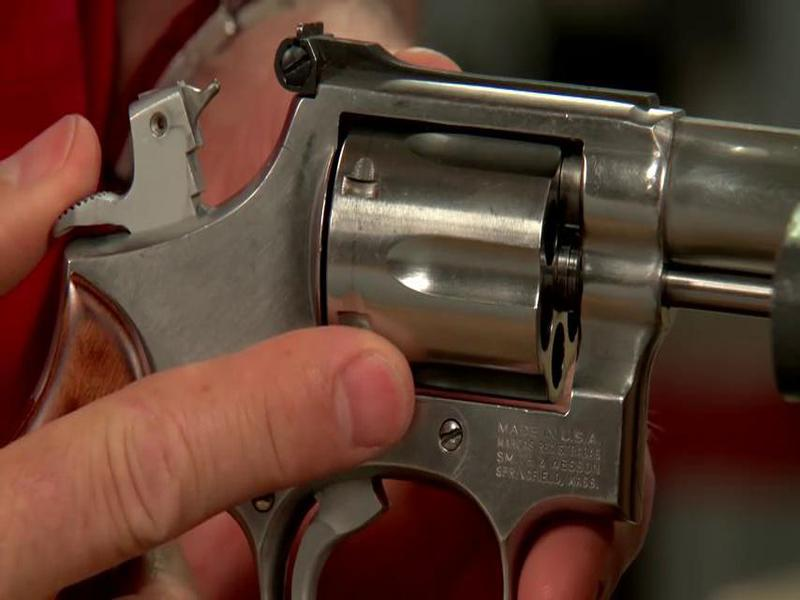Revolver: (52, 22, 800, 521)
